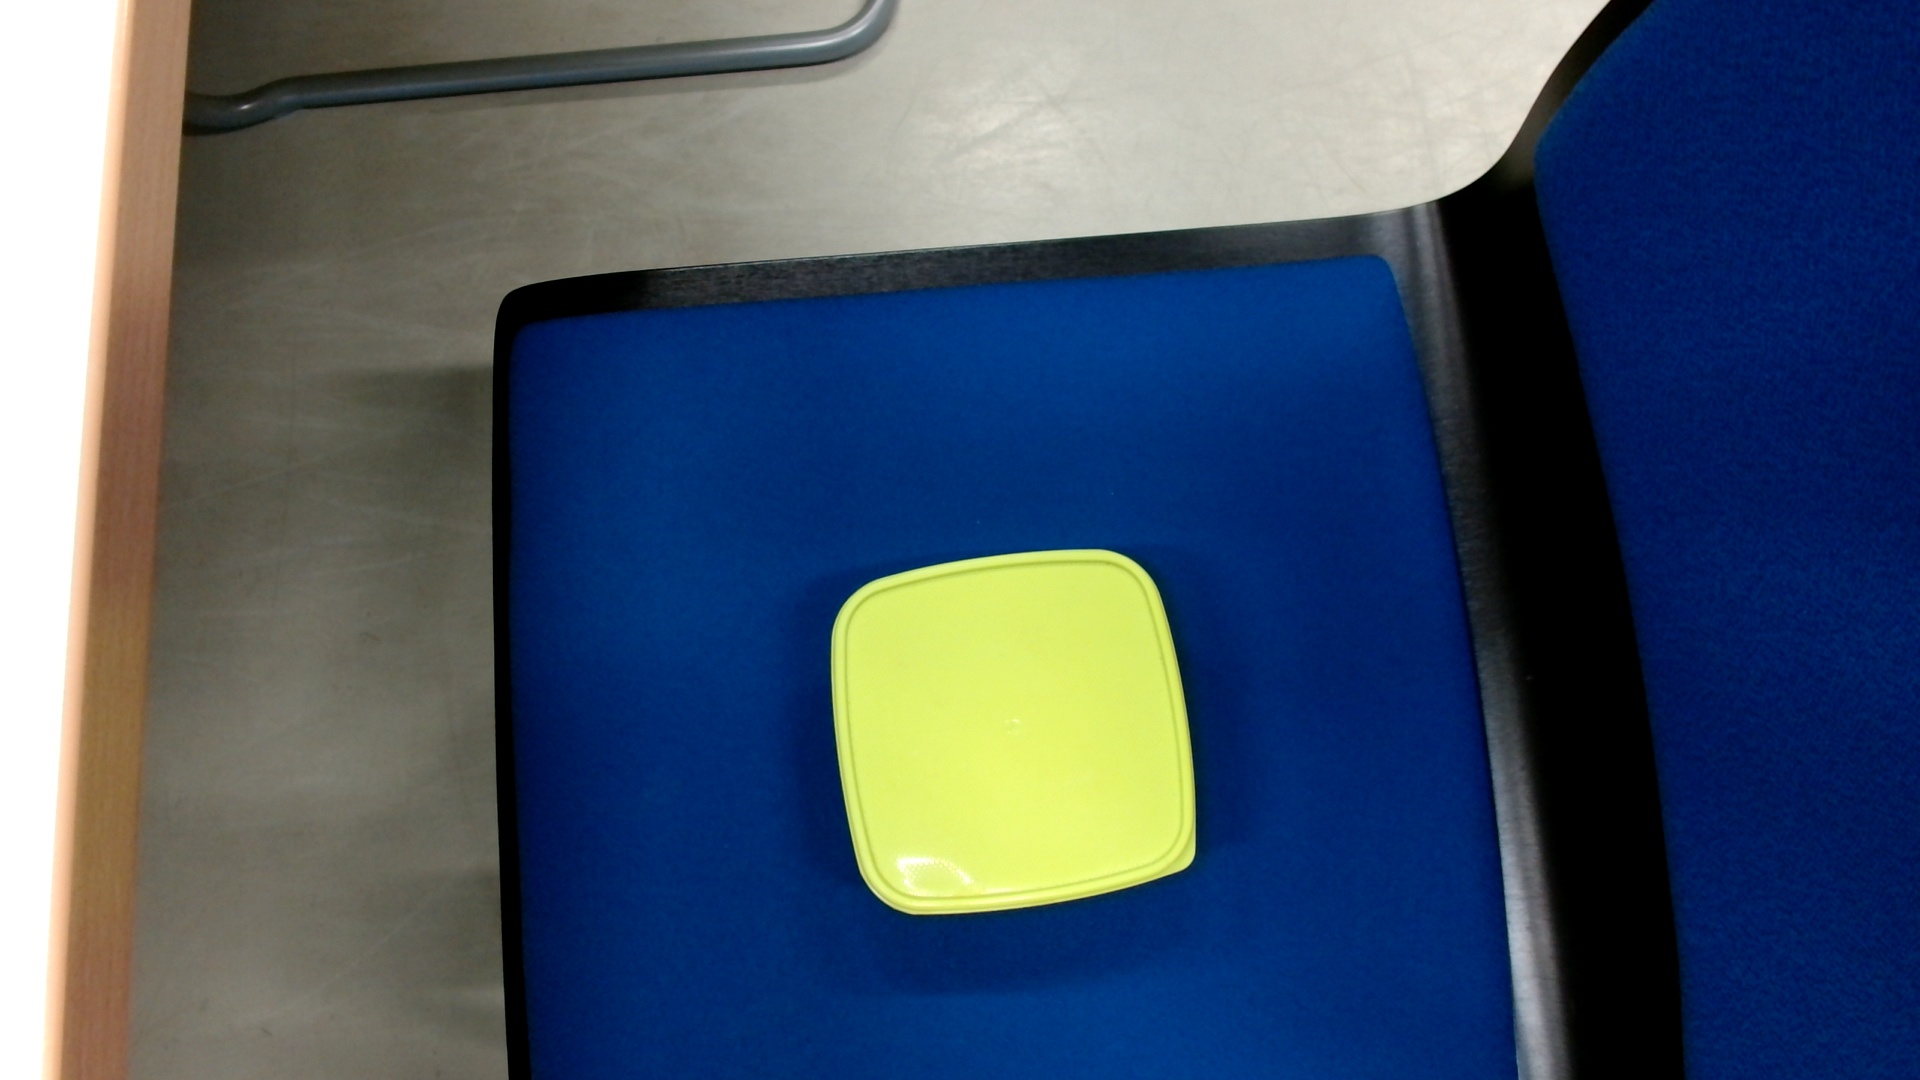Box: (812, 542, 1212, 926)
